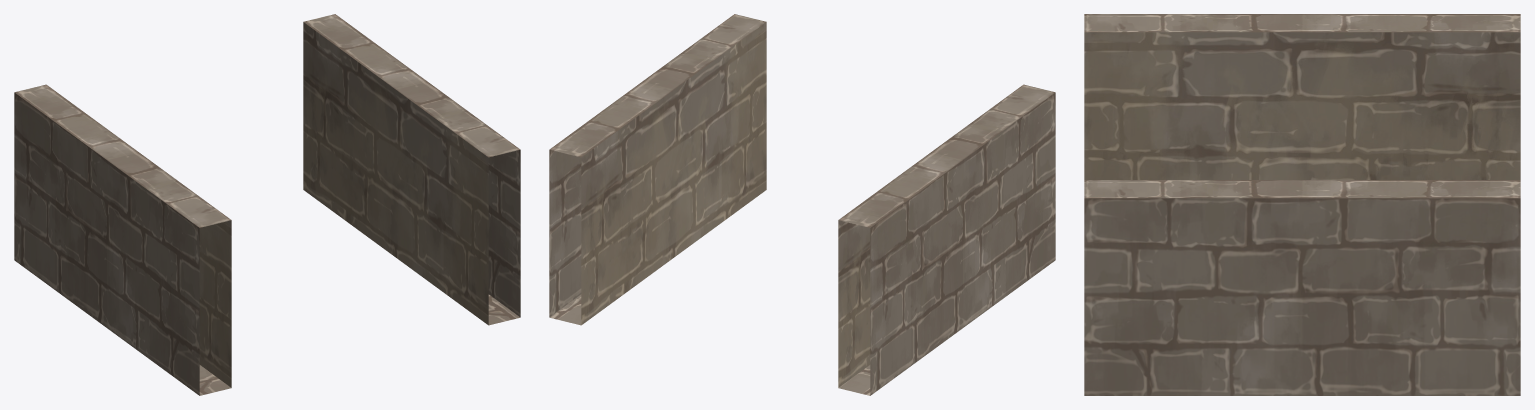
File: Stairs_Exterior_Sides.gltf
The picture shows the model from 3 angles, left to right: view 1: azimuth 30°, elevation 25°; view 2: azimuth 150°, elevation 25°; view 3: azimuth 270°, elevation 25°; orthographic projection. The views are drawn at different scales.
Parts seen in each view (by area): view 1: Stairs_Exterior_Sides; view 2: Stairs_Exterior_Sides; view 3: Stairs_Exterior_Sides.
Part boxes in pixels (x1,y1,x2,y2): Stairs_Exterior_Sides: [14, 14, 520, 395]; Stairs_Exterior_Sides: [549, 14, 1055, 395]; Stairs_Exterior_Sides: [1084, 14, 1520, 395].
Size of the model in its own units: 2 by 1 by 2.
Materials: 1 (1 with a texture image).
